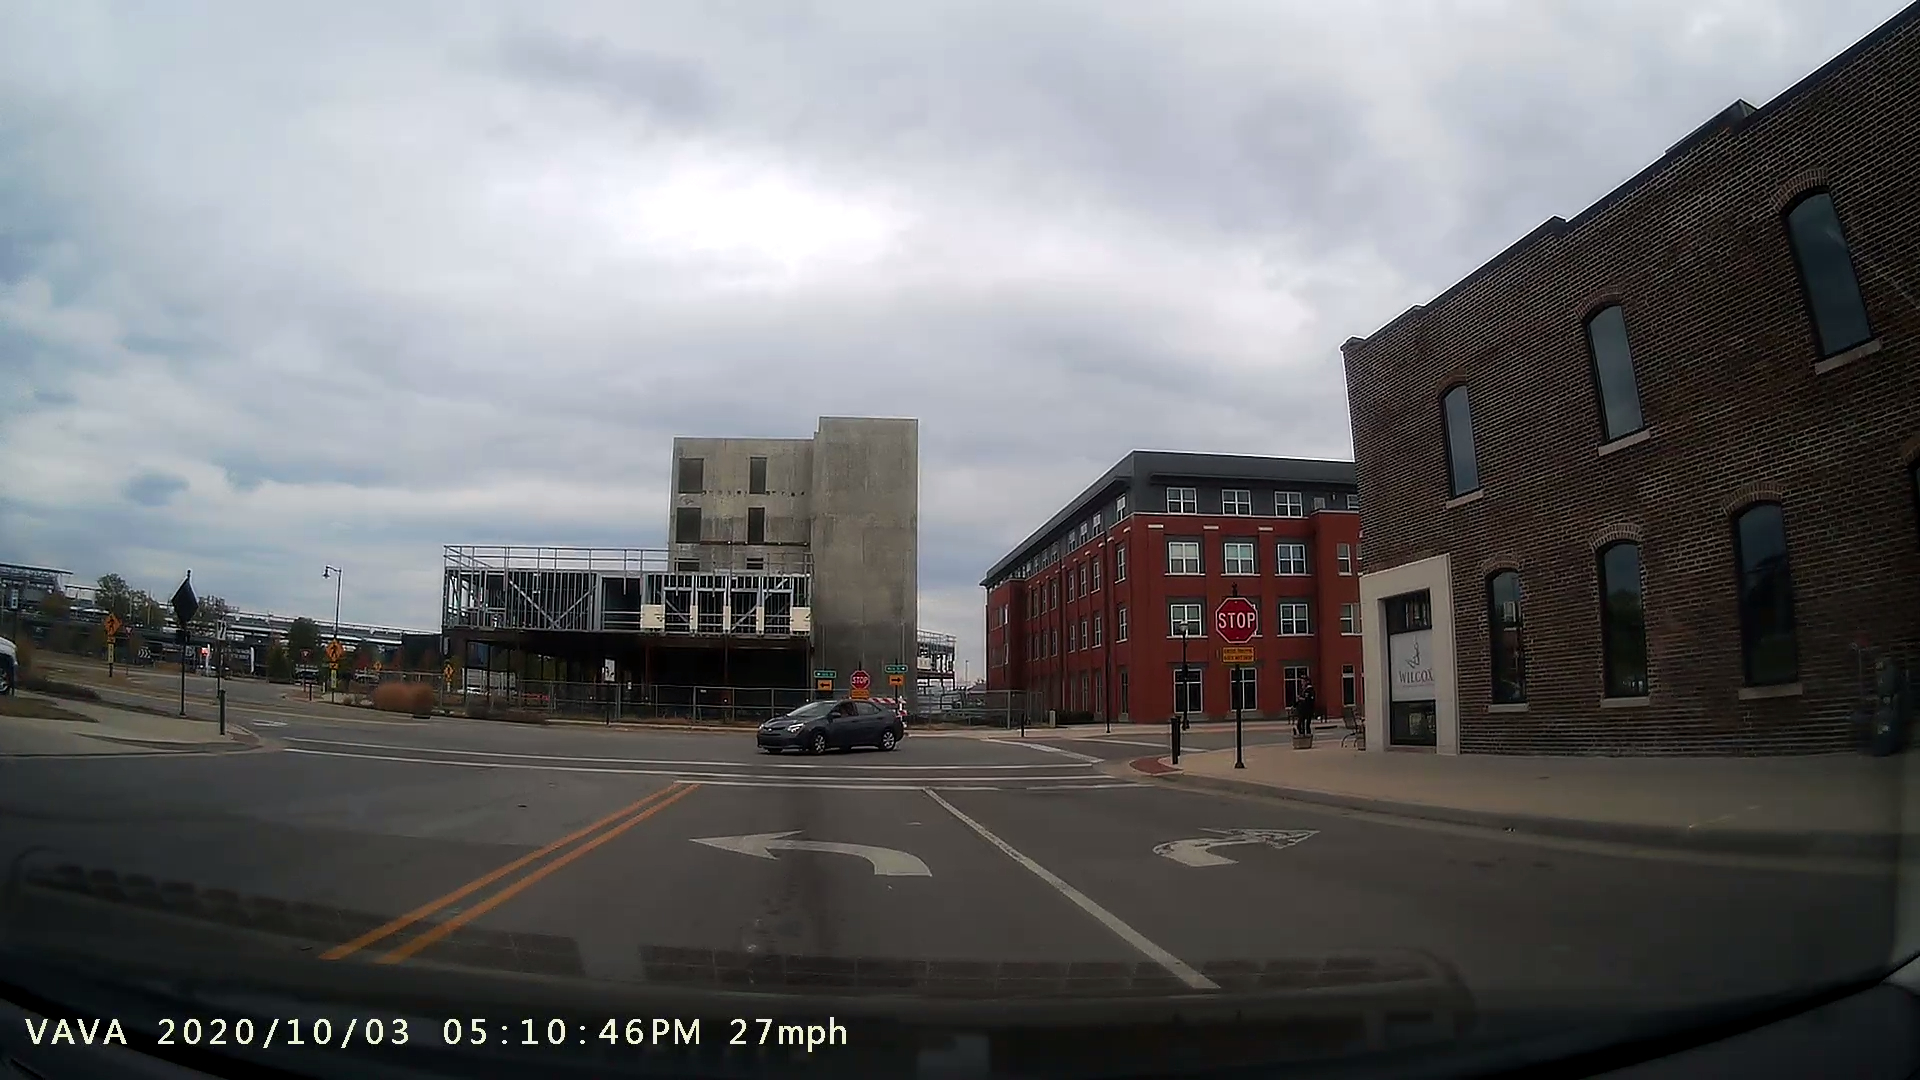left_turn: (680, 812, 939, 886)
right_turn: (1141, 803, 1333, 893)
